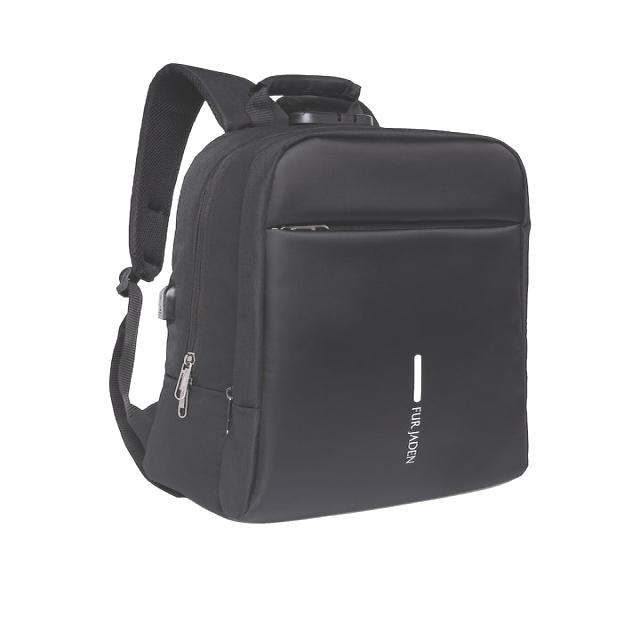backpack: (110, 63, 532, 525)
